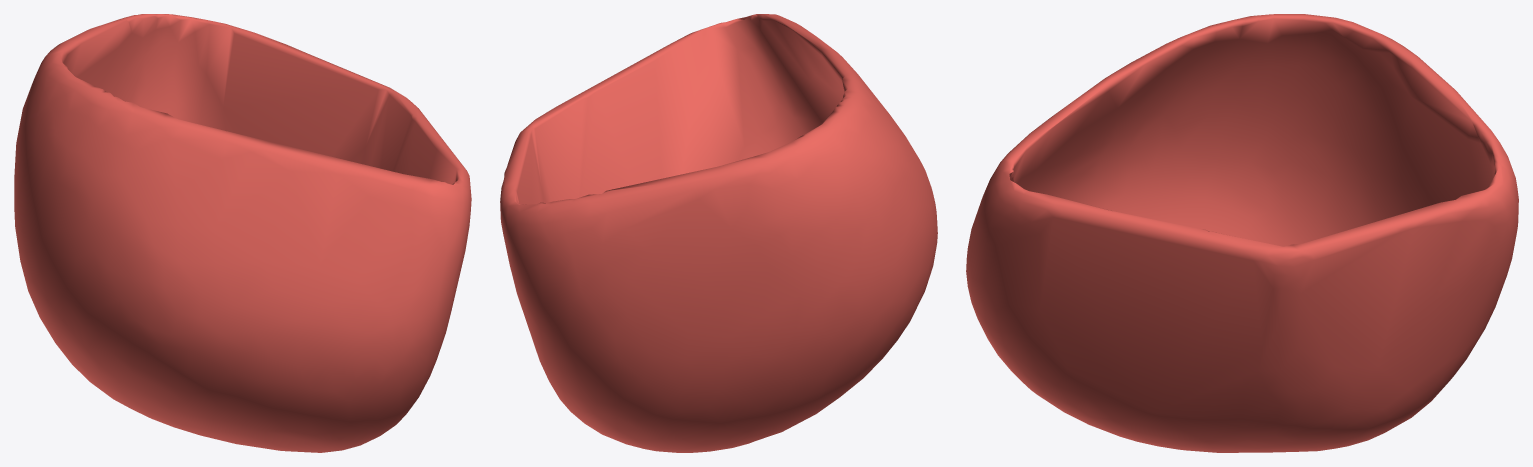
3 views of the same model, side by side, from view 1: azimuth 30°, elevation 25°; view 2: azimuth 150°, elevation 25°; view 3: azimuth 270°, elevation 25° (orthographic). The views are drawn at different scales.
Parts seen in each view (by area): view 1: Right semilunar leaflet of pulmonary valve.008; view 2: Right semilunar leaflet of pulmonary valve.008; view 3: Right semilunar leaflet of pulmonary valve.008.
Part boxes in pixels (box(x1,y1,x2,y2)): Right semilunar leaflet of pulmonary valve.008: box(14, 14, 471, 452); Right semilunar leaflet of pulmonary valve.008: box(500, 14, 937, 452); Right semilunar leaflet of pulmonary valve.008: box(966, 14, 1518, 452).
Bounding box in the file's own units: 0.5957 × 0.5424 × 0.7681.
